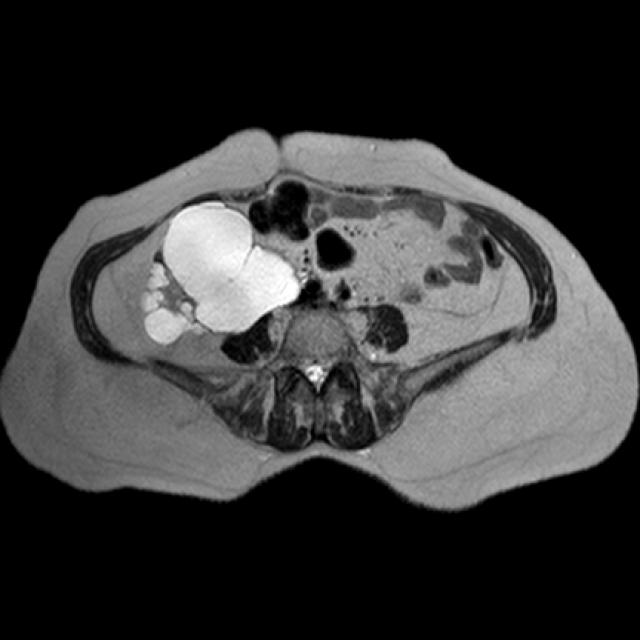sag: (138, 200, 302, 347)
